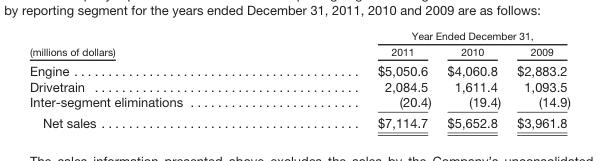table: (28, 29, 569, 130)
table column: (28, 29, 279, 130), (279, 29, 438, 130), (438, 29, 508, 130), (508, 29, 569, 130)
table column header: (28, 29, 569, 60)
table row: (28, 60, 569, 78), (28, 94, 569, 112), (28, 112, 569, 130), (28, 43, 569, 60), (28, 78, 569, 94), (28, 29, 569, 43)
table spanning cell: (28, 29, 279, 60), (279, 29, 569, 43)
